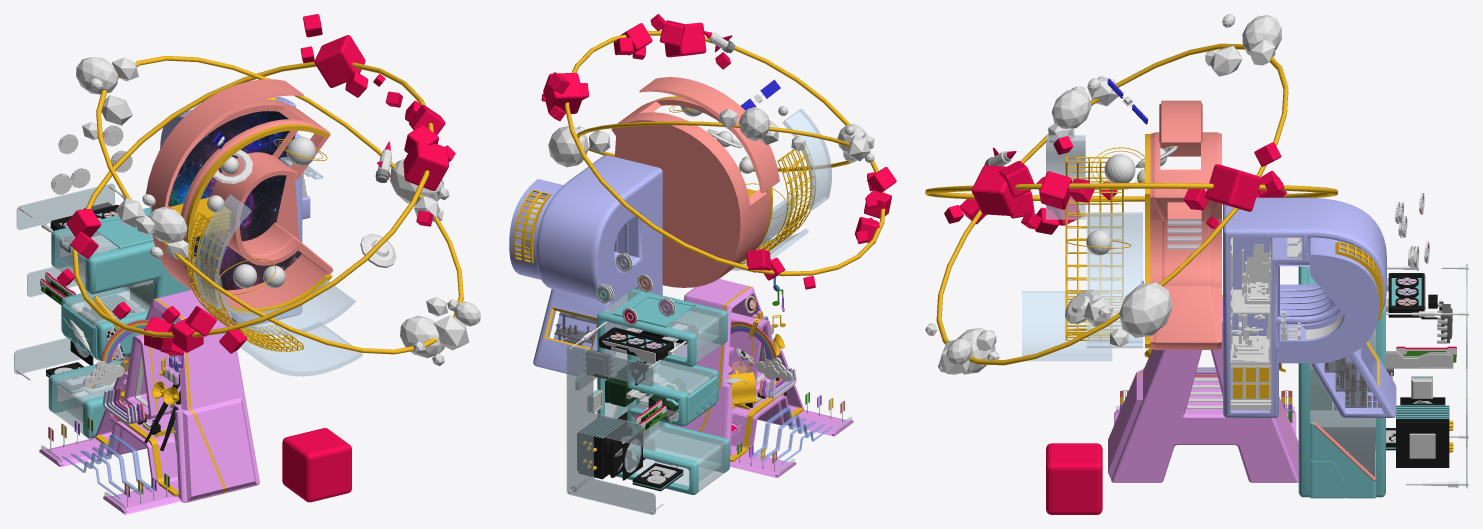
Rendered from crea_house01.fbx.
The picture shows the model from 3 angles, left to right: view 1: azimuth 30°, elevation 25°; view 2: azimuth 150°, elevation 25°; view 3: azimuth 270°, elevation 25°; orthographic projection. The views are drawn at different scales.
Visible parts, largest first — view 1: Text.005, Text.001, Text.004, Text.031, Text.011, Text.008, Torus.002, Text.010, Cube.013, Torus.001, Text.024, Text.022 (+29 smaller); view 2: Text.002, Text.001, Text.005, Text.004, Text.010, Text.011, Torus.002, Text.008, Text.003, Cube.183, Text.022, Text.023 (+24 smaller); view 3: Text.002, Text.005, Text.001, Text.003, Text.007, Cube.013, Text.024, Torus.001, Cube.183, Text.022, Text.004, Text.013 (+22 smaller).
Part boxes in pixels (left/top/right/bottom): Text.005: left=39, top=290, right=259, bottom=514; Text.001: left=151, top=99, right=333, bottom=308; Text.004: left=48, top=207, right=190, bottom=438; Text.031: left=168, top=111, right=301, bottom=290; Text.011: left=52, top=210, right=153, bottom=434; Text.008: left=145, top=79, right=303, bottom=207; Torus.002: left=72, top=61, right=433, bottom=337; Text.010: left=14, top=183, right=114, bottom=374; Cube.013: left=282, top=428, right=351, bottom=502; Torus.001: left=96, top=56, right=463, bottom=354; Text.024: left=221, top=321, right=362, bottom=376; Text.022: left=186, top=212, right=303, bottom=351; Text.002: left=533, top=155, right=662, bottom=375; Text.001: left=611, top=98, right=770, bottom=287; Text.005: left=669, top=279, right=853, bottom=478; Text.004: left=597, top=288, right=729, bottom=494; Text.010: left=566, top=345, right=655, bottom=514; Text.011: left=602, top=291, right=726, bottom=491; Torus.002: left=565, top=30, right=885, bottom=276; Text.008: left=639, top=77, right=779, bottom=193; Text.003: left=509, top=179, right=563, bottom=279; Cube.183: left=577, top=416, right=629, bottom=479; Text.022: left=740, top=144, right=815, bottom=264; Text.023: left=783, top=108, right=831, bottom=210; Text.002: left=1223, top=197, right=1396, bottom=417; Text.005: left=1108, top=294, right=1298, bottom=482; Text.001: left=1150, top=132, right=1221, bottom=349; Text.003: left=1278, top=239, right=1382, bottom=363; Text.007: left=1086, top=212, right=1142, bottom=348; Cube.013: left=1046, top=443, right=1102, bottom=514; Text.024: left=1022, top=291, right=1112, bottom=361; Torus.001: left=936, top=43, right=1288, bottom=365; Cube.183: left=1396, top=404, right=1453, bottom=467; Text.022: left=1065, top=157, right=1123, bottom=340; Text.004: left=1298, top=266, right=1385, bottom=497; Text.013: left=1310, top=422, right=1375, bottom=498.
Size of the model in its own units: 1267 by 1402 by 1645.
